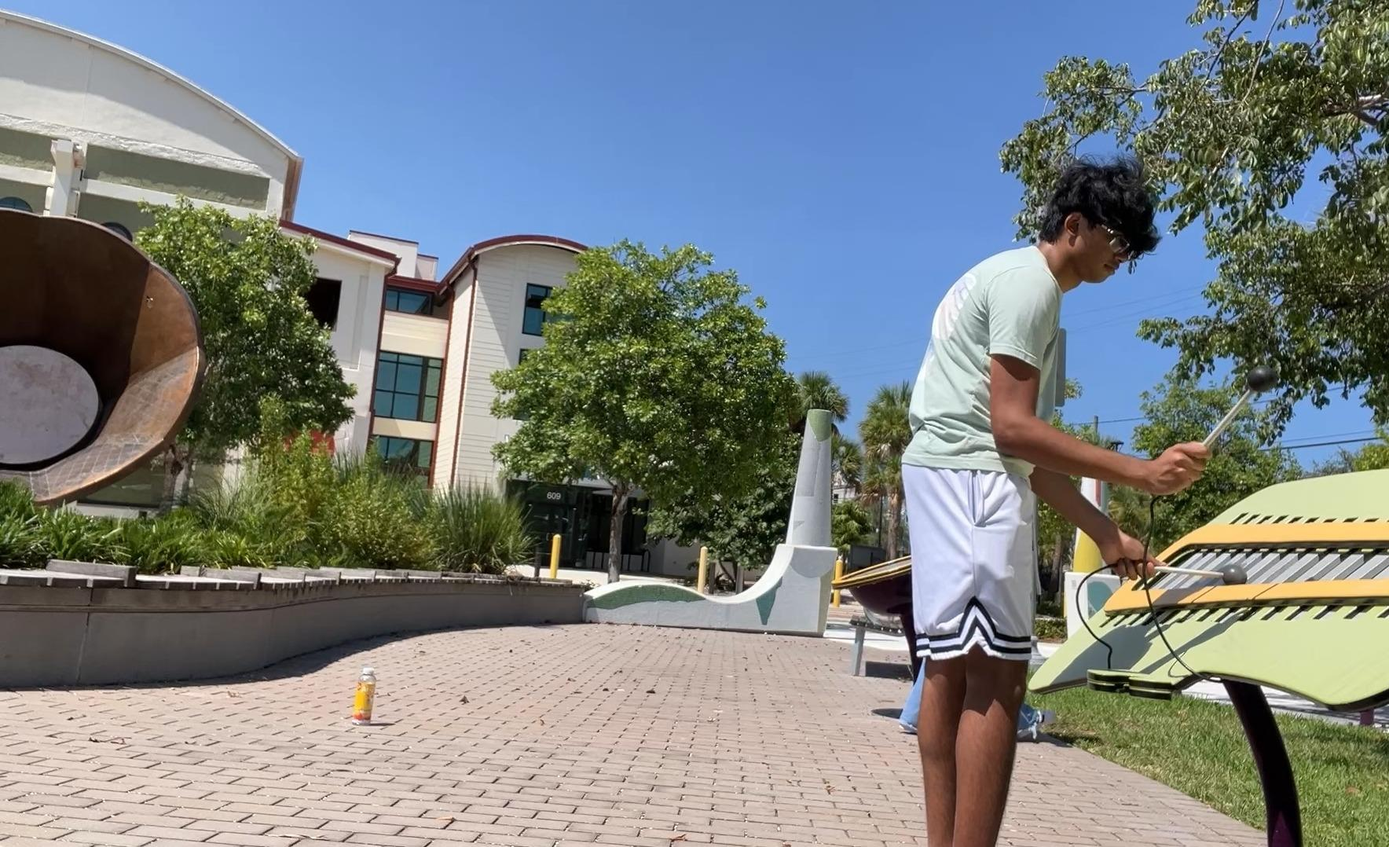Trash: (342, 657, 389, 736)
